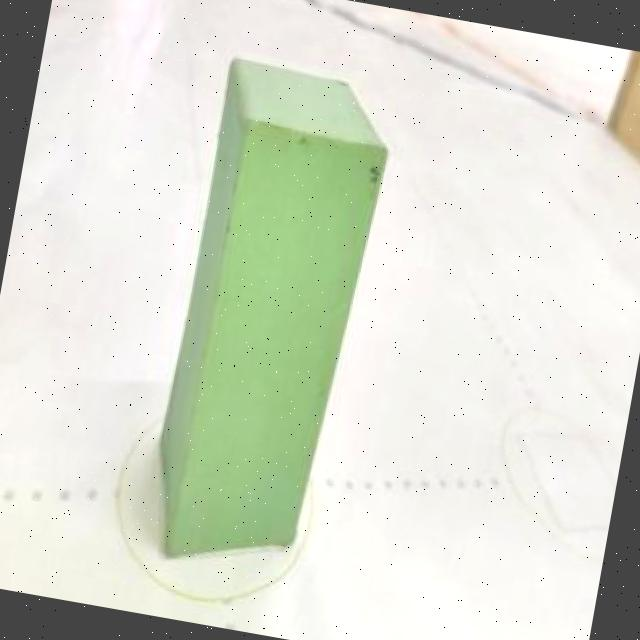greenbox: (136, 51, 404, 584)
